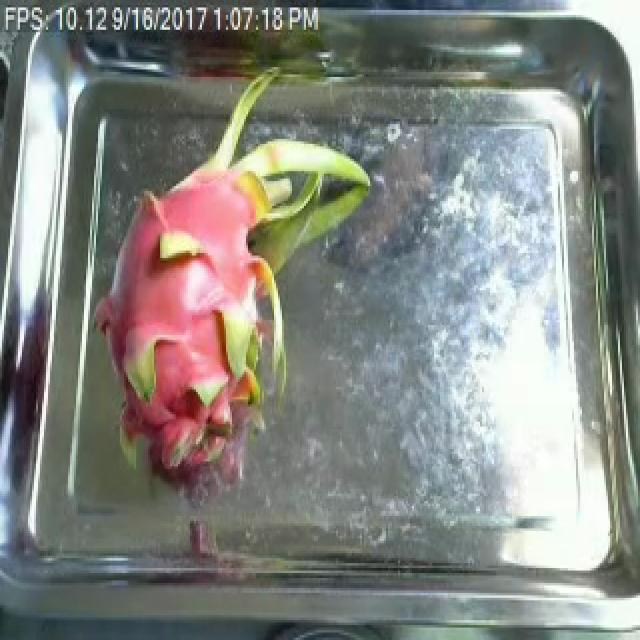fruit: (72, 74, 374, 506)
